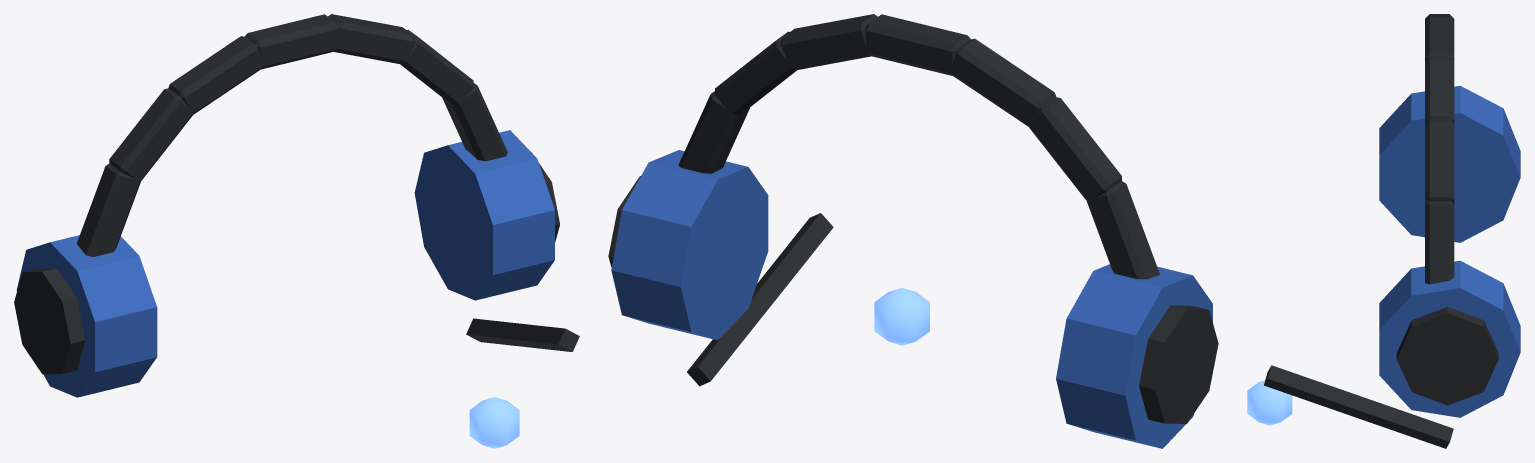
Rendered from npc_headset_blue.glb.
The picture shows the model from 3 angles, left to right: view 1: azimuth 30°, elevation 25°; view 2: azimuth 150°, elevation 25°; view 3: azimuth 270°, elevation 25°; orthographic projection. The views are drawn at different scales.
Parts seen in each view (by area): view 1: part.npc_headset_blue; view 2: part.npc_headset_blue; view 3: part.npc_headset_blue.
Part boxes in pixels (box(x1,y1,x2,y2)): part.npc_headset_blue: box(14, 14, 579, 448); part.npc_headset_blue: box(608, 14, 1218, 448); part.npc_headset_blue: box(1247, 14, 1520, 448).
Bounding box in the file's own units: 0.315 × 0.233 × 0.1689.
